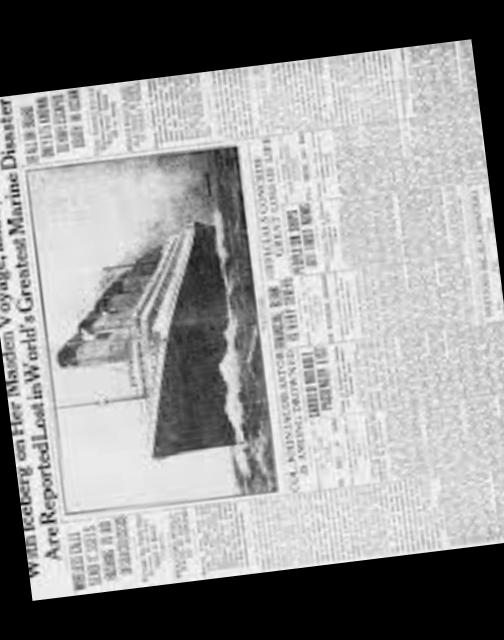cardboard paper: (0, 39, 504, 598)
